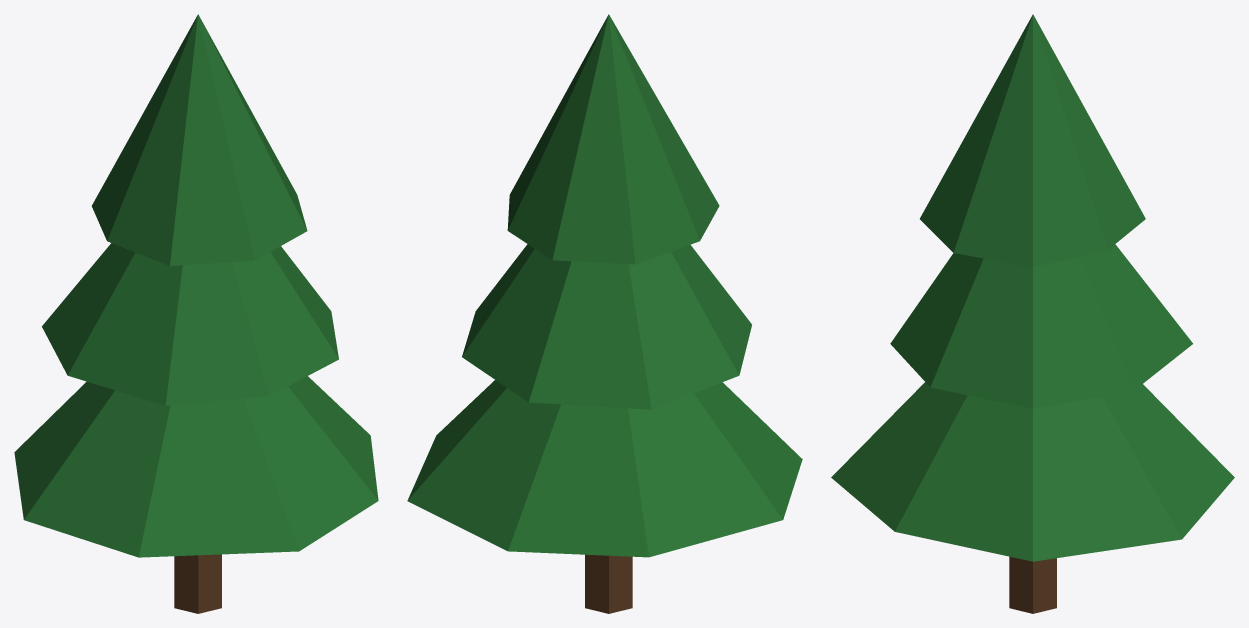
The model's file is tree_pine.glb.
3 renders of one model, left to right at view 1: azimuth 30°, elevation 25°; view 2: azimuth 150°, elevation 25°; view 3: azimuth 270°, elevation 25°, orthographic.
Parts seen in each view (by area): view 1: Tree_pine; view 2: Tree_pine; view 3: Tree_pine.
Part boxes in pixels (x1,y1,x2,y2): Tree_pine: [14, 14, 378, 613]; Tree_pine: [407, 14, 802, 613]; Tree_pine: [831, 14, 1234, 613].
Size of the model in its own units: 2.04 by 3.3 by 2.05.
